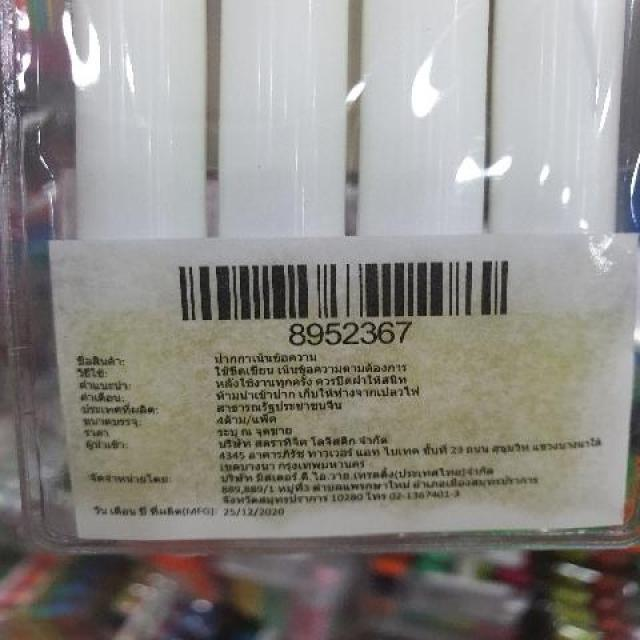Barcode: (160, 255, 528, 348)
